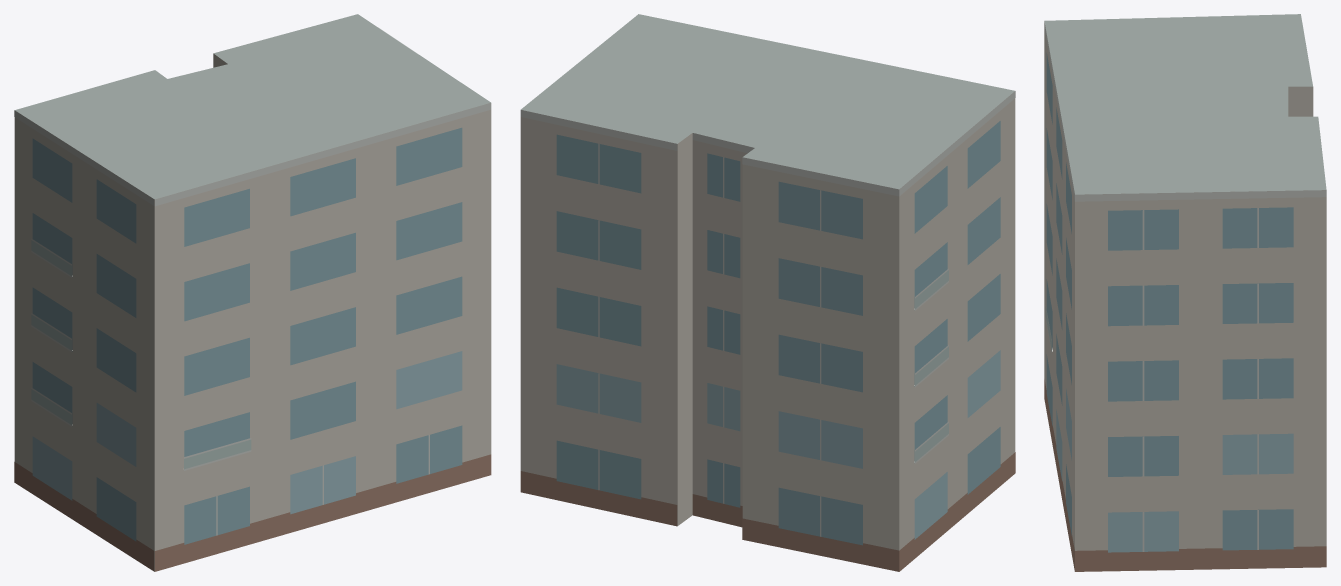
File: survey-upis-32749180.glb
3 views of the same model, side by side, from view 1: azimuth 30°, elevation 25°; view 2: azimuth 150°, elevation 25°; view 3: azimuth 270°, elevation 25° (orthographic). The views are drawn at different scales.
Visible parts, largest first — view 1: survey-upis-32749180.tmp; view 2: survey-upis-32749180.tmp; view 3: survey-upis-32749180.tmp.
Part boxes in pixels (x1=…): survey-upis-32749180.tmp: x1=14, y1=14, x2=491, y2=571; survey-upis-32749180.tmp: x1=520, y1=14, x2=1015, y2=571; survey-upis-32749180.tmp: x1=1044, y1=14, x2=1326, y2=571.
Size of the model in its own units: 13.43 by 13.07 by 8.87.
